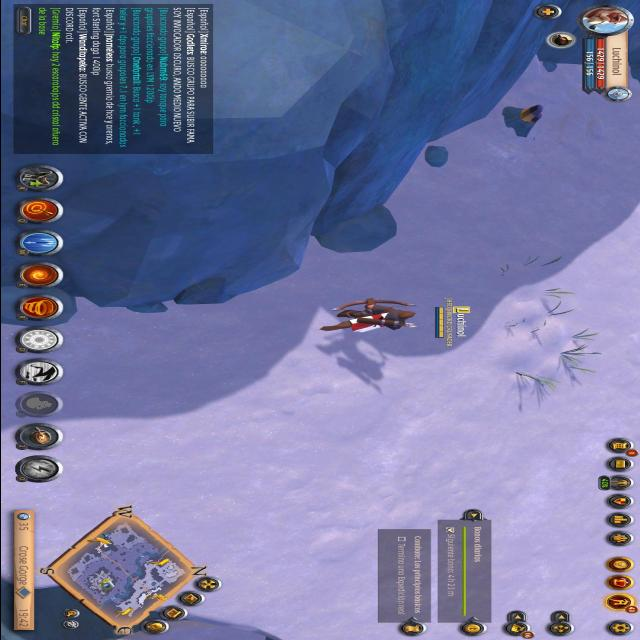piedra_cobre: (502, 105, 542, 138)
